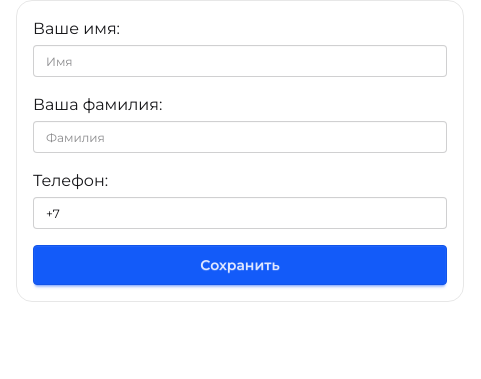
Scenario: ProfileForm › показывает ошибки валидации при пустой отправке
Click the button "Сохранить". click: (240, 265)
box: [33,245,447,285]
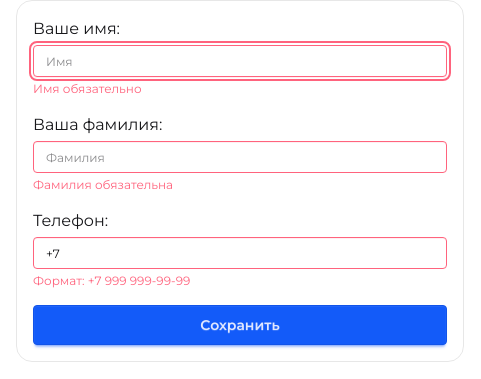
Check: the text "Имя обязательно" is shown, box [33,81,142,96]
Check: the text "Фамилия обязательна" is shown, box [33,177,173,192]
Check: the text "Формат: +7 999 999-99-99" is shown, box [33,273,190,288]
